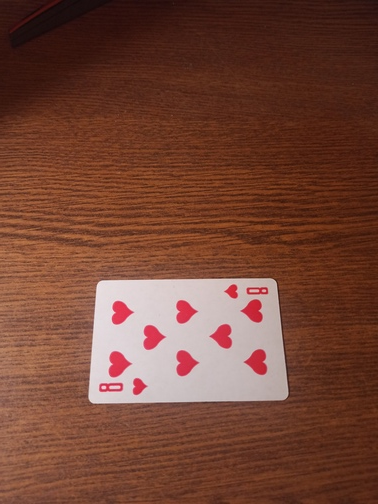eighthearts: (86, 279, 291, 404)
